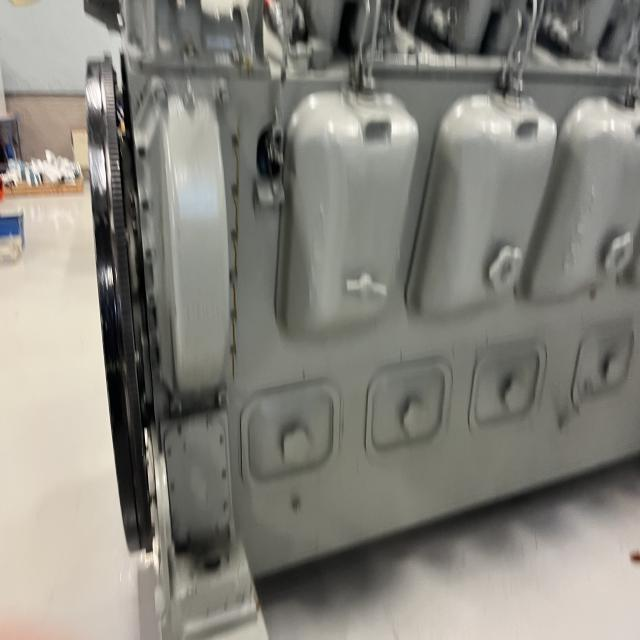Oil Leak: (228, 121, 240, 379)
